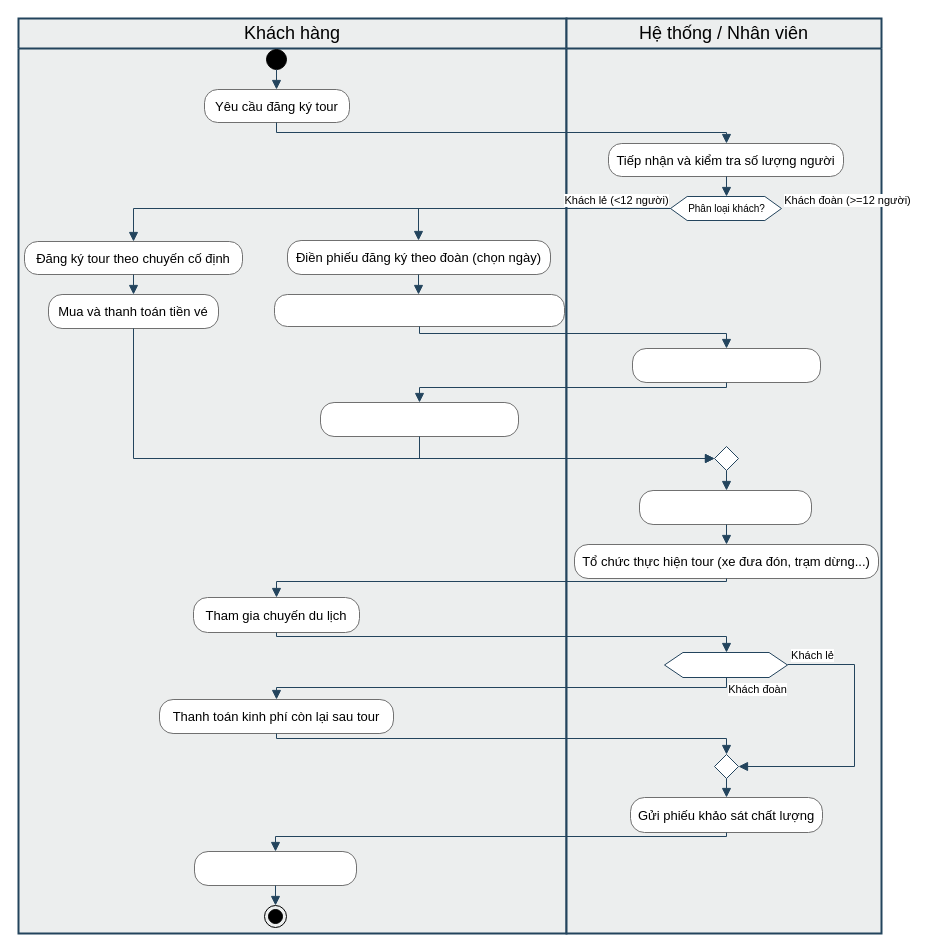
This 927x951 diagram has some shape labels left out. The centre of each missing label's shape, as x and y in pixels:
"Cung cấp danh sách người cùng đi & bảo hiểm" belongs at (x=419, y=310).
"Ghi nhận góp ý khảo sát" belongs at (x=275, y=868).
"Khách tham gia là?" belongs at (x=726, y=665).
"Lưu trữ thông tin khách đoàn" belongs at (x=726, y=365).
"Phân công Hướng dẫn viên" belongs at (x=725, y=507).
"Đặt cọc tiền (không đi mất cọc)" belongs at (x=419, y=419).
